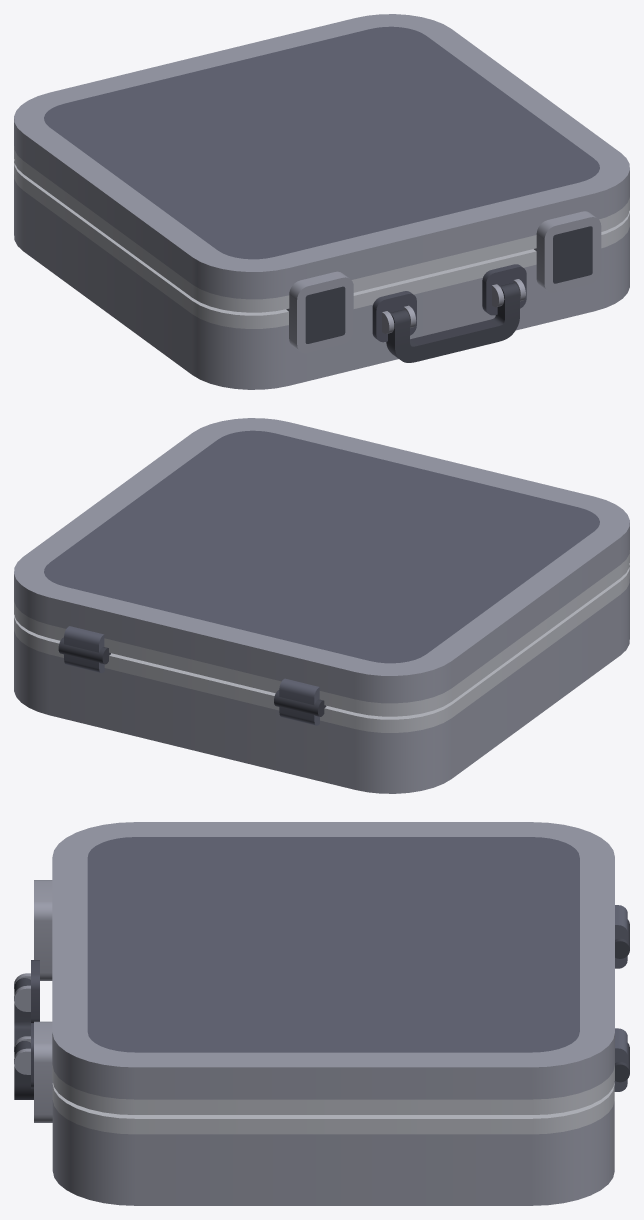
File: Case.fbx
The picture shows the model from 3 angles, top to bottom: view 1: azimuth 30°, elevation 25°; view 2: azimuth 150°, elevation 25°; view 3: azimuth 270°, elevation 25°; orthographic projection. The views are drawn at different scales.
Visible parts, largest first — view 1: Case.001, Case, Case.002; view 2: Case.001, Case; view 3: Case.001, Case, Case.002.
Boxes of the visible parts, x1,y1,x2,y2 form: Case.001: (14, 14, 629, 353); Case: (14, 160, 629, 389); Case.002: (386, 282, 519, 362); Case.001: (14, 418, 629, 716); Case: (14, 564, 629, 793); Case.001: (34, 822, 627, 1122); Case: (14, 919, 629, 1205); Case.002: (14, 978, 33, 1099).
Size of the model in its own units: 1.28 by 0.3379 by 1.36.
